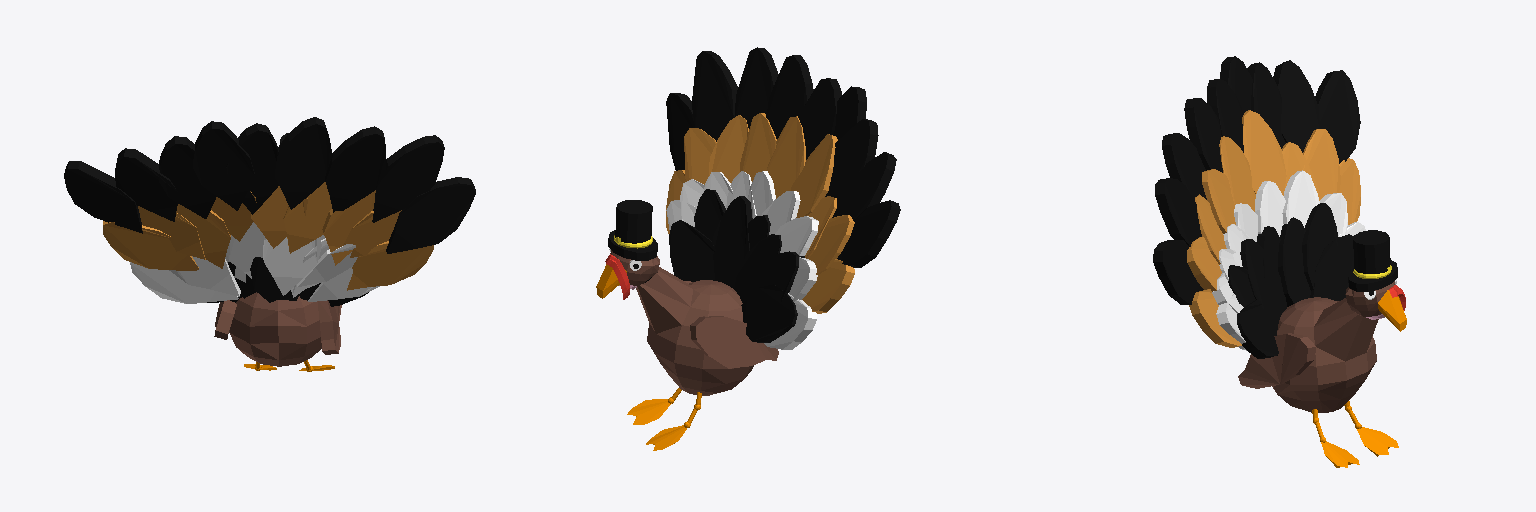
3 views of the same model, side by side, from view 1: azimuth 30°, elevation 25°; view 2: azimuth 150°, elevation 25°; view 3: azimuth 270°, elevation 25° (orthographic).
Parts seen in each view (by area): view 1: group[number redacted], group[number redacted], group[number redacted], group[number redacted], group[number redacted], group[number redacted], group[number redacted], group[number redacted], group[number redacted], group[number redacted], group[number redacted], group[number redacted] (+16 smaller); view 2: group[number redacted], group[number redacted], group[number redacted], group[number redacted], group[number redacted], group[number redacted], group[number redacted], group[number redacted], group[number redacted], group[number redacted], group[number redacted], group[number redacted] (+25 smaller); view 3: group[number redacted], group[number redacted], group[number redacted], group[number redacted], group[number redacted], group[number redacted], group[number redacted], group[number redacted], group[number redacted], group[number redacted], group[number redacted], group[number redacted] (+24 smaller).
Part boxes in pixels (x1,y1,x2,y2): group[number redacted]: (229, 292, 321, 366); group[number redacted]: (386, 177, 475, 253); group[number redacted]: (325, 126, 385, 212); group[number redacted]: (193, 121, 254, 210); group[number redacted]: (372, 135, 444, 222); group[number redacted]: (275, 117, 332, 209); group[number redacted]: (64, 161, 142, 233); group[number redacted]: (103, 221, 198, 270); group[number redacted]: (115, 148, 177, 221); group[number redacted]: (159, 136, 216, 218); group[number redacted]: (347, 241, 433, 290); group[number redacted]: (226, 123, 278, 214); group[number redacted]: (636, 267, 753, 395); group[number redacted]: (692, 51, 737, 141); group[number redacted]: (690, 316, 778, 368); group[number redacted]: (712, 196, 752, 288); group[number redacted]: (741, 284, 797, 342); group[number redacted]: (837, 200, 900, 267); group[number redacted]: (608, 200, 657, 260); group[number redacted]: (766, 55, 813, 138); group[number redacted]: (832, 152, 896, 220); group[number redacted]: (669, 220, 715, 281); group[number redacted]: (825, 119, 878, 197); group[number redacted]: (735, 47, 778, 128); group[number redacted]: (1272, 297, 1378, 412); group[number redacted]: (1315, 70, 1360, 163); group[number redacted]: (1273, 60, 1319, 152); group[number redacted]: (1238, 333, 1315, 388); group[number redacted]: (1242, 110, 1286, 195); group[number redacted]: (1348, 230, 1397, 291); group[number redacted]: (1155, 178, 1201, 246); group[number redacted]: (1240, 239, 1286, 325); group[number redacted]: (1153, 240, 1203, 304); group[number redacted]: (1278, 217, 1310, 306); group[number redacted]: (1310, 234, 1353, 300); group[number redacted]: (1184, 98, 1222, 172).
Bounding box in the file's own units: 3.19 × 3.17 × 2.18.